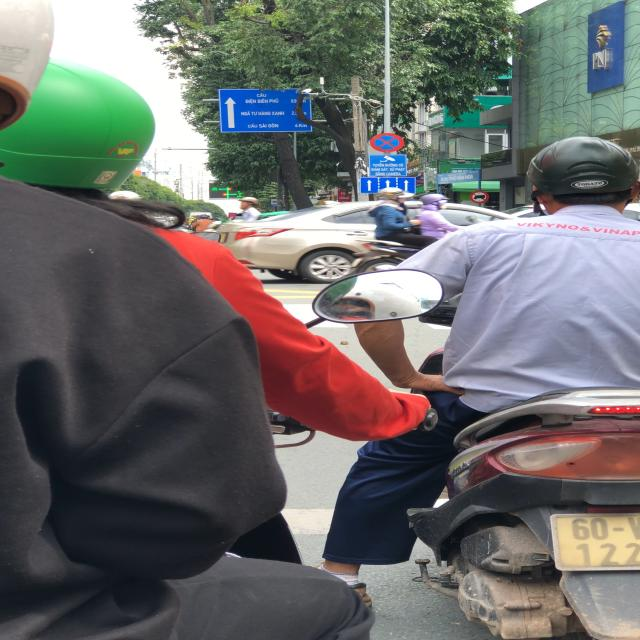Bien bao cam dung xe va do xe: (368, 132, 409, 154)
